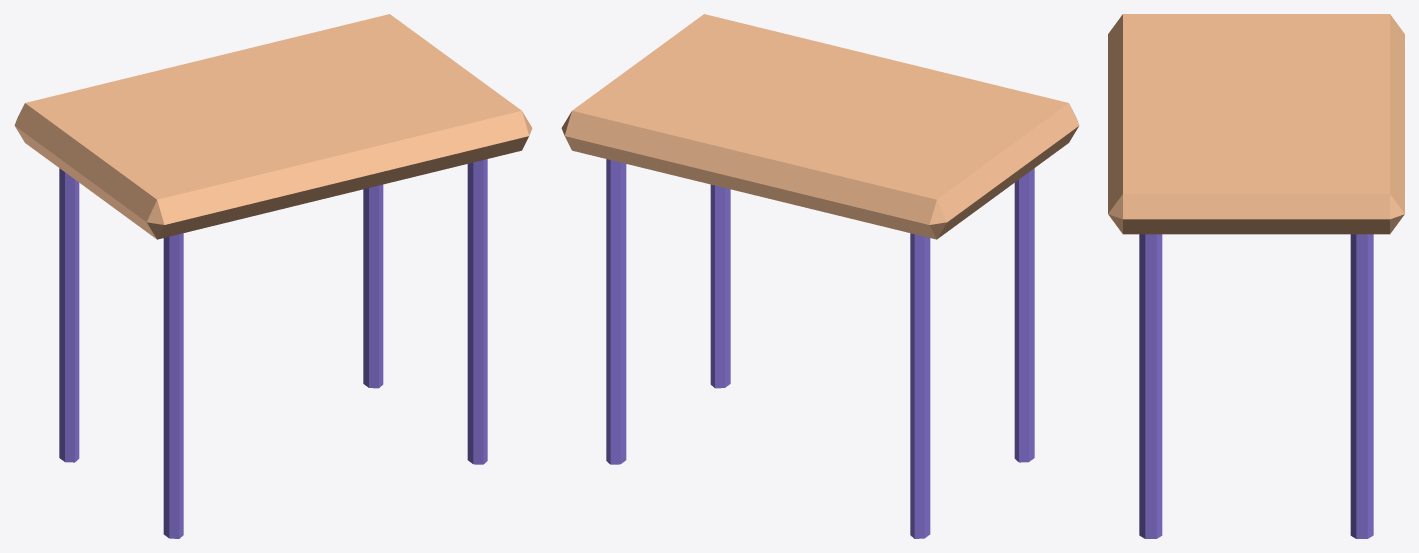
3 views of the same model, side by side, from view 1: azimuth 30°, elevation 25°; view 2: azimuth 150°, elevation 25°; view 3: azimuth 270°, elevation 25° (orthographic).
Visible parts, largest first — view 1: Rounded table top, Leg.002, Leg, Leg.001, Leg.003; view 2: Rounded table top, Leg.003, Leg.001, Leg, Leg.002; view 3: Rounded table top, Leg.002, Leg.003.
Part boxes in pixels (x1,y1,x2,y2): Rounded table top: (14, 14, 532, 239); Leg.002: (467, 159, 487, 464); Leg: (163, 233, 183, 538); Leg.001: (59, 168, 79, 462); Leg.003: (363, 184, 383, 388); Rounded table top: (561, 14, 1079, 239); Leg.003: (606, 159, 626, 464); Leg.001: (910, 233, 930, 538); Leg: (1014, 168, 1034, 462); Leg.002: (710, 184, 730, 388); Rounded table top: (1108, 14, 1404, 234); Leg.002: (1139, 234, 1162, 538); Leg.003: (1350, 234, 1373, 538).
Size of the model in its own units: 79.2 by 69.17 by 52.2.
